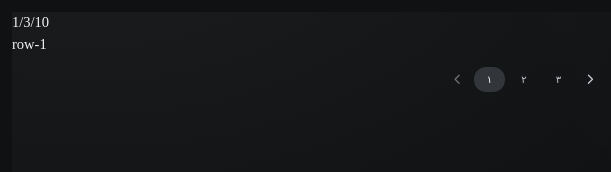
Scenario: usePaged › shows ten rows first, and the remainder on the next page
This screenshot has width=611, height=172.
Check: the text with test id "state" reads "1/3/10", box x1=12 y1=14 x2=49 y2=30
Check: the text with test id "first" reads "row-1", box x1=12 y1=36 x2=47 y2=52
What coordinates should you click on to do the following:
click the button "۳"
I would click on:
 (559, 79)
Its box is x1=543 y1=66 x2=574 y2=92.
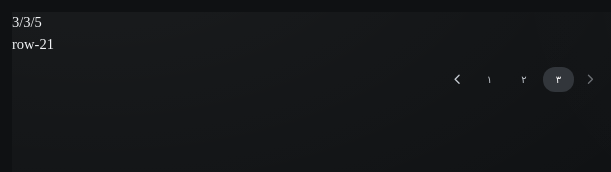
Check: the text with test id "state" reads "3/3/5", box x1=12 y1=14 x2=42 y2=30
Check: the text with test id "first" reads "row-21", box x1=12 y1=36 x2=54 y2=52
